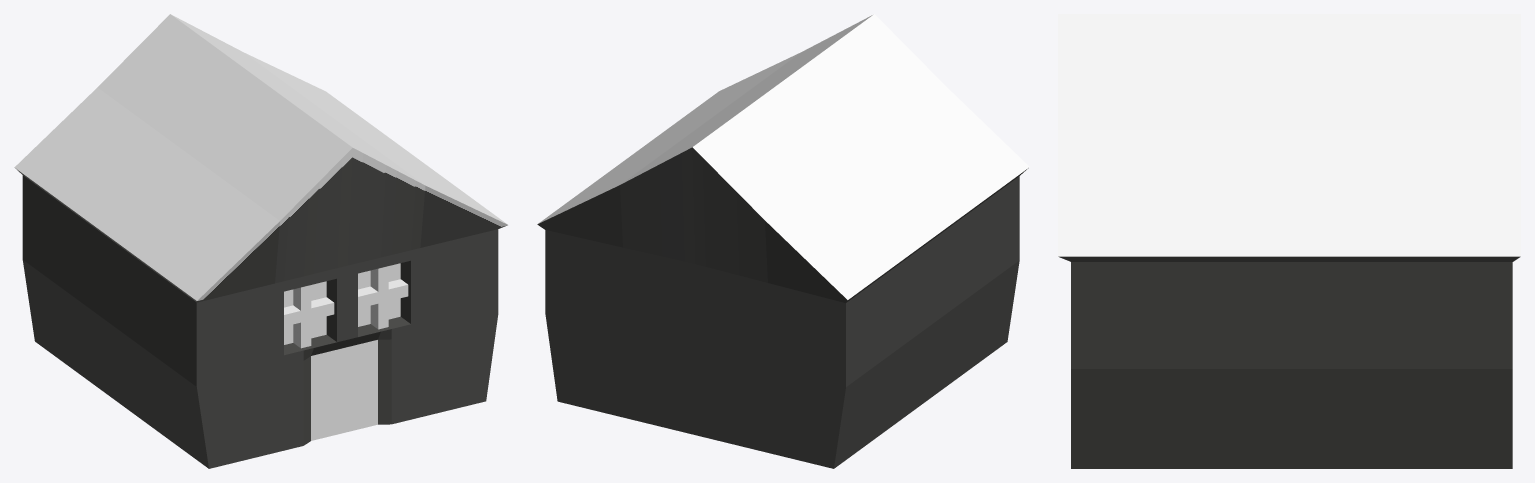
Rendered from Towncenter.fbx.
3 views of the same model, side by side, from view 1: azimuth 30°, elevation 25°; view 2: azimuth 150°, elevation 25°; view 3: azimuth 270°, elevation 25° (orthographic). The views are drawn at different scales.
Parts seen in each view (by area): view 1: Cube; view 2: Cube; view 3: Cube.
Boxes of the visible parts, box(x1,y1,x2,y2) form: Cube: box(14, 14, 507, 468); Cube: box(537, 14, 1029, 468); Cube: box(1058, 14, 1520, 468).
Bounding box in the file's own units: 173 × 155 × 176.
